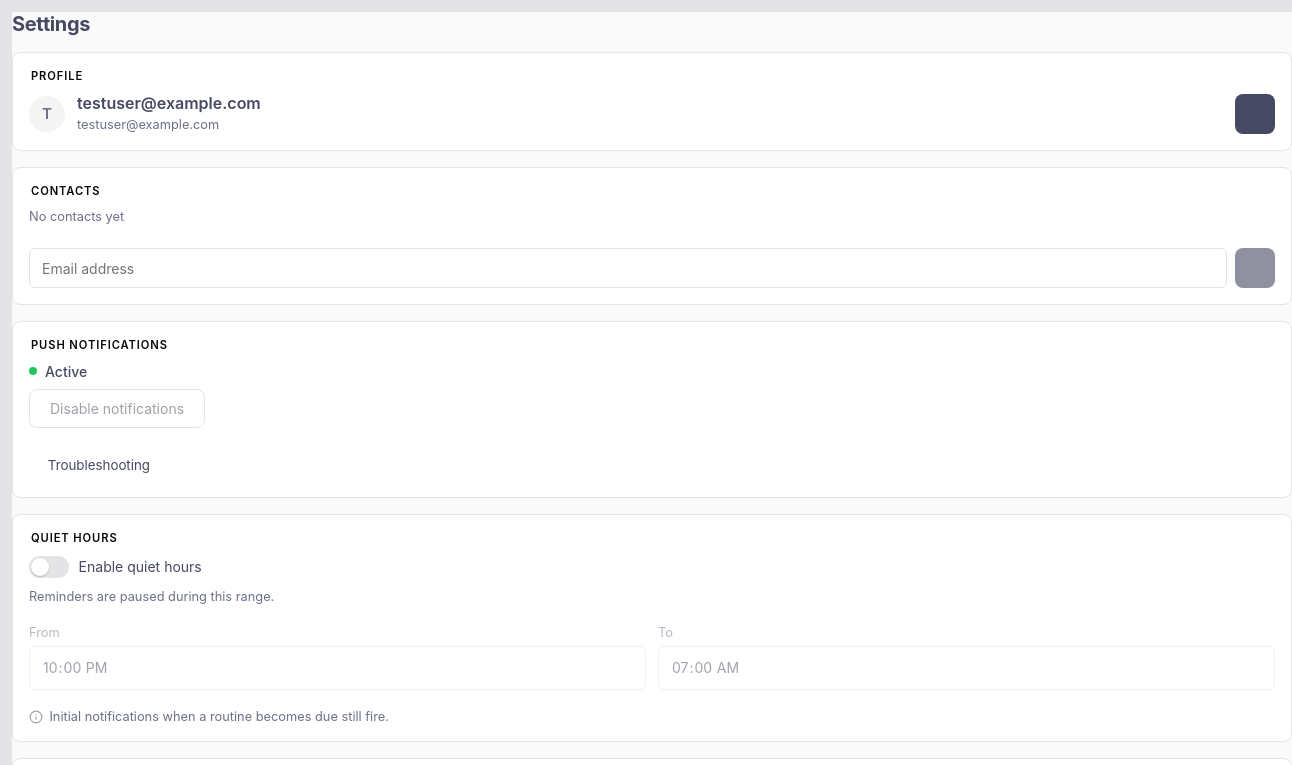
Test: SettingsPage › schedules test notification successfully
Click the button with test id "push-troubleshooting-toggle": (99, 465) 29,449 -> 1275,481
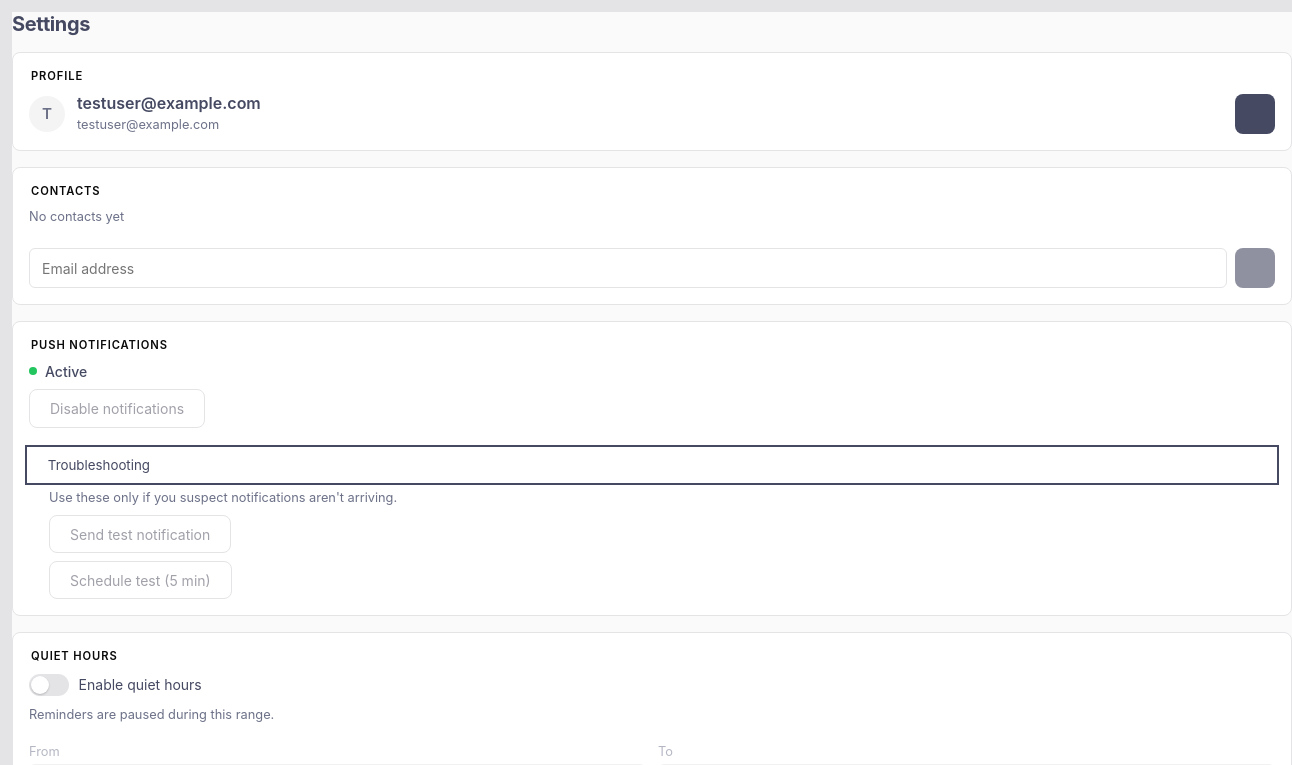
Click the button "Schedule test (5 min)": (140, 580) 49,561 -> 232,599
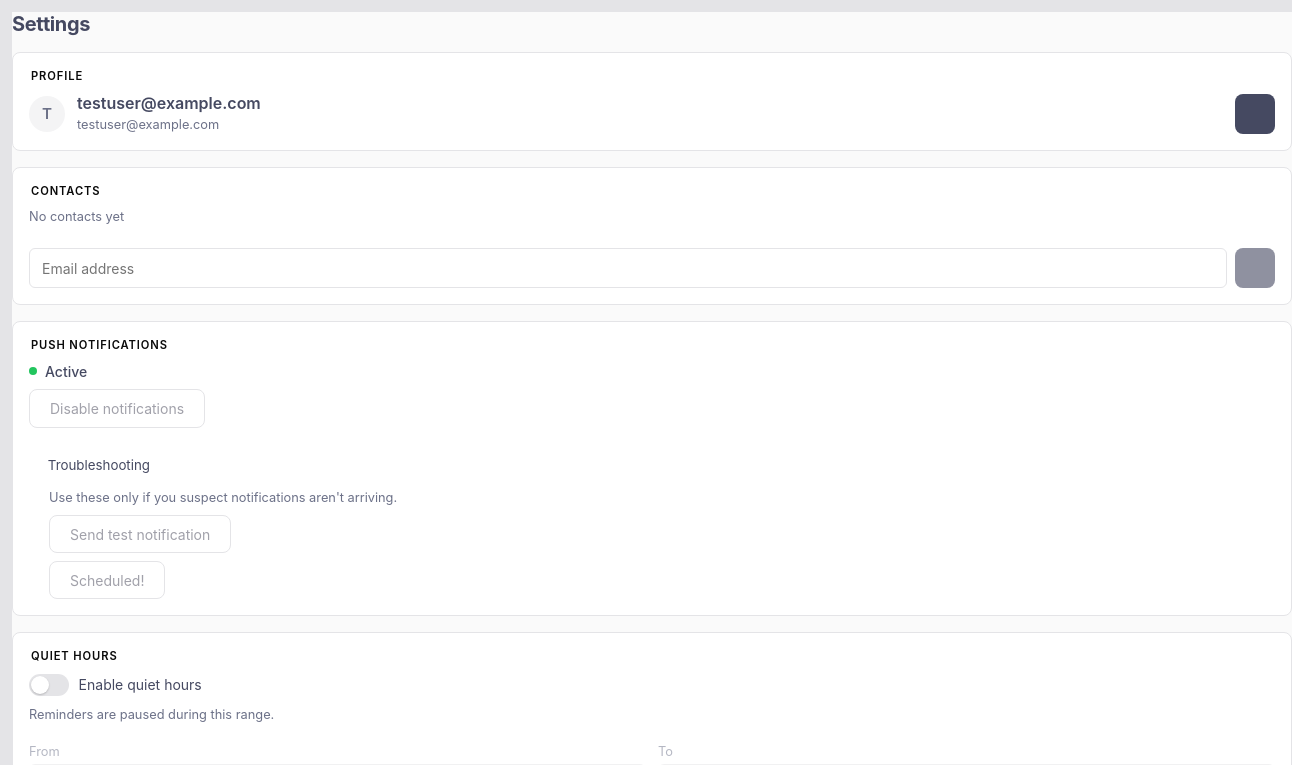
Result: the button "Scheduled!" is shown at 49,561 -> 165,599
